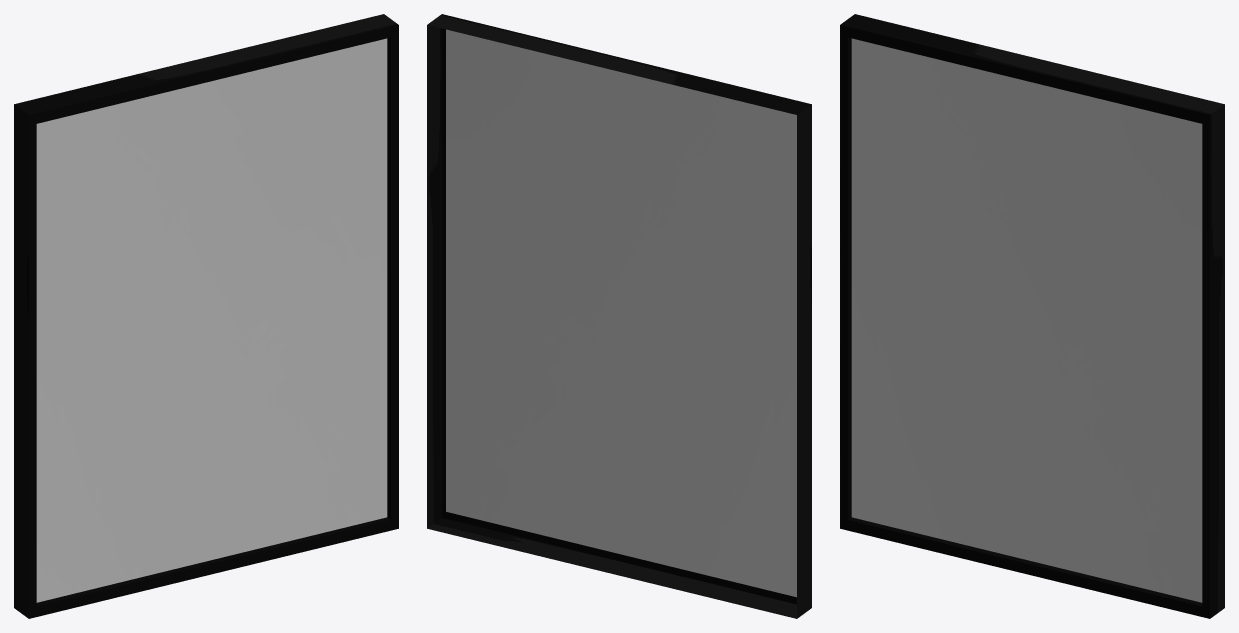
File: NewWebLavagna.gltf
The picture shows the model from 3 angles, left to right: view 1: azimuth 30°, elevation 25°; view 2: azimuth 150°, elevation 25°; view 3: azimuth 330°, elevation 25°; orthographic projection.
Parts seen in each view (by area): view 1: Social Instagram Lavagna.002; view 2: Social Instagram Lavagna.002; view 3: Social Instagram Lavagna.002.
Part boxes in pixels (x1=…): Social Instagram Lavagna.002: x1=14, y1=14, x2=398, y2=618; Social Instagram Lavagna.002: x1=427, y1=14, x2=811, y2=618; Social Instagram Lavagna.002: x1=840, y1=14, x2=1224, y2=618.
Size of the model in its own units: 1.55 by 2.02 by 0.1075.
2 materials, 2 textured.
